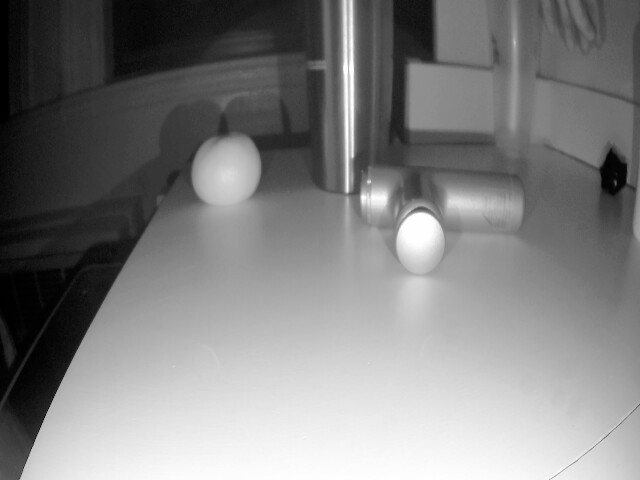black: (601, 150, 633, 192)
